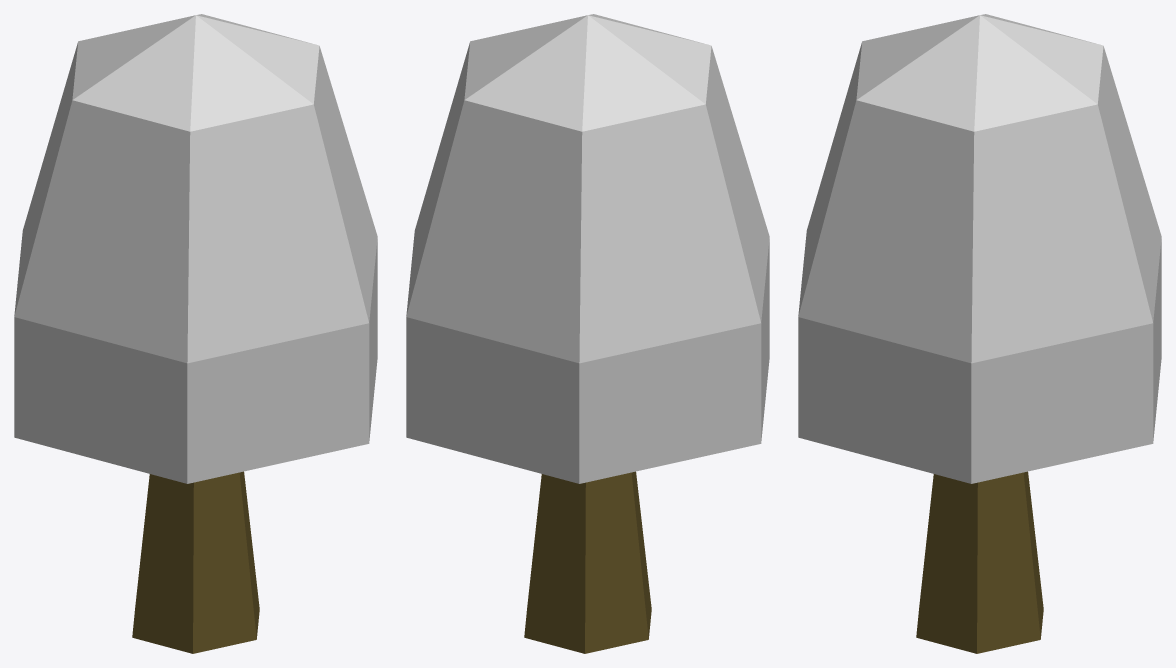
Rendered from Tree_Generic_Winter_03.fbx.
The picture shows the model from 3 angles, left to right: view 1: azimuth 30°, elevation 25°; view 2: azimuth 150°, elevation 25°; view 3: azimuth 270°, elevation 25°; orthographic projection.
Parts seen in each view (by area): view 1: Tree_Generic_Winter_03; view 2: Tree_Generic_Winter_03; view 3: Tree_Generic_Winter_03.
Boxes of the visible parts, x1,y1,x2,y2 form: Tree_Generic_Winter_03: (14,14,377,653); Tree_Generic_Winter_03: (406,14,769,653); Tree_Generic_Winter_03: (798,14,1161,653).
Size of the model in its own units: 75.06 by 123 by 66.56.
